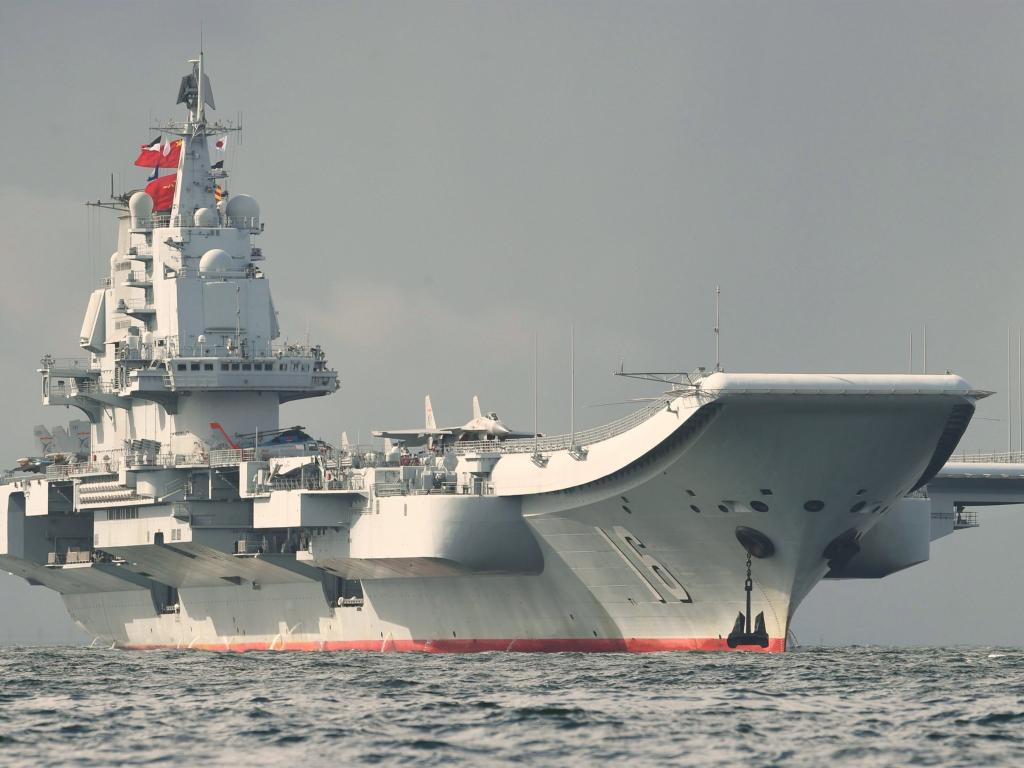Warship: (0, 26, 1014, 664)
